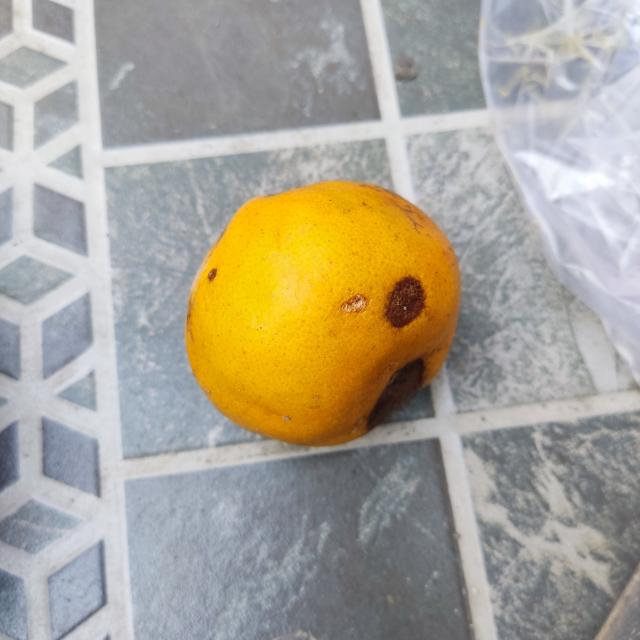orange: (182, 173, 466, 452)
